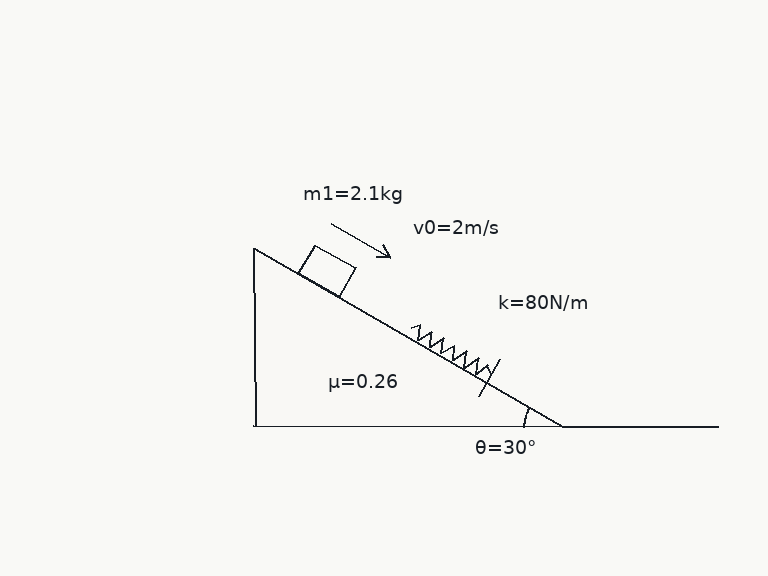block: (296, 242, 357, 299)
ramp: (252, 246, 566, 429)
spring: (408, 323, 493, 376)
